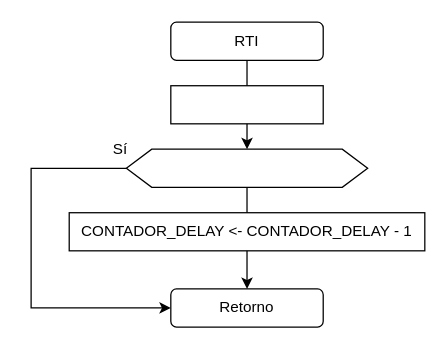
Some shapes in this 447 by 349 pixel diagram are drawn without their labels. The centre of each missing label's shape, as x and y in pixels:
"CONTADOR_DELAY = 0" belongs at point 246,167.
"CRGINT.7 <- $80" belongs at point 246,104.
